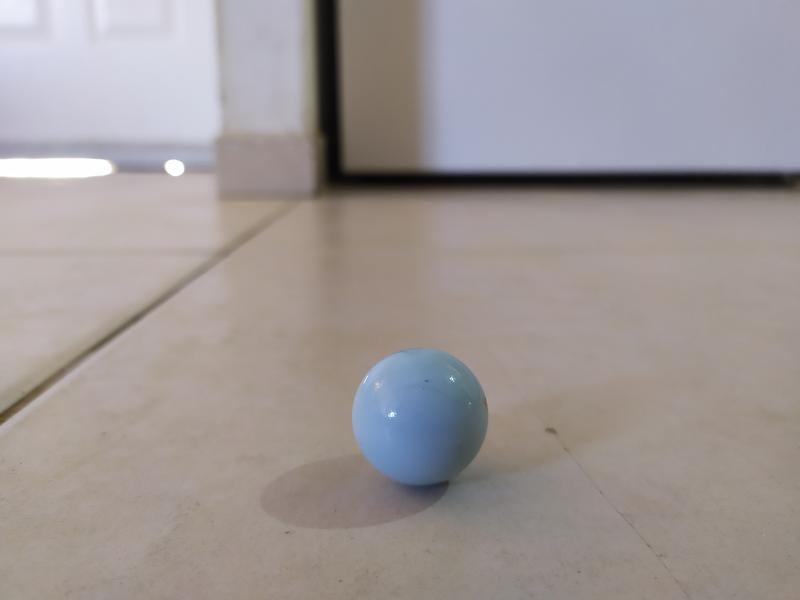Warning: (346, 342, 494, 491)
